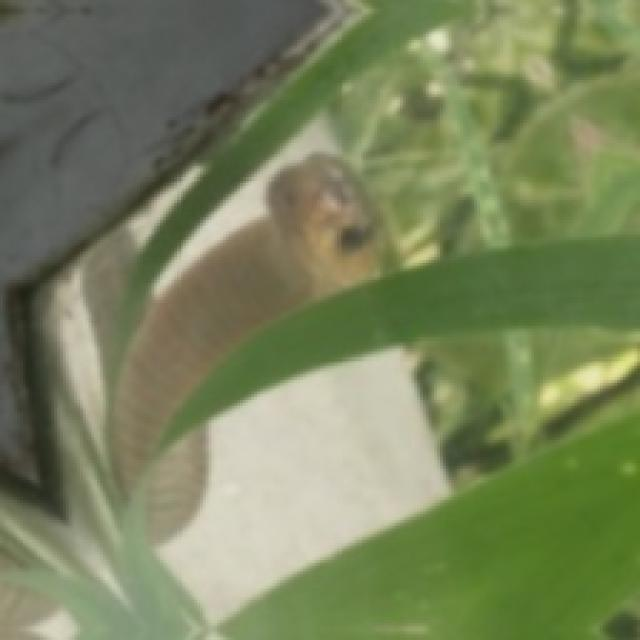philippine cobra: (111, 154, 380, 491), (150, 431, 208, 541)
